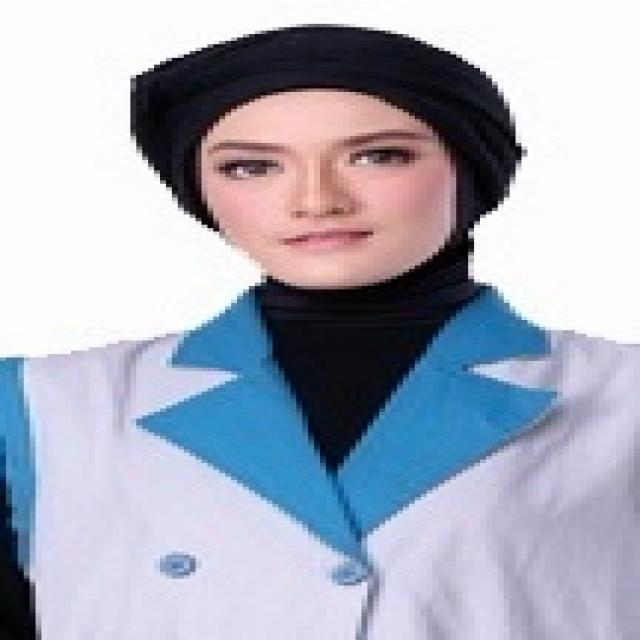head: (153, 23, 516, 296)
